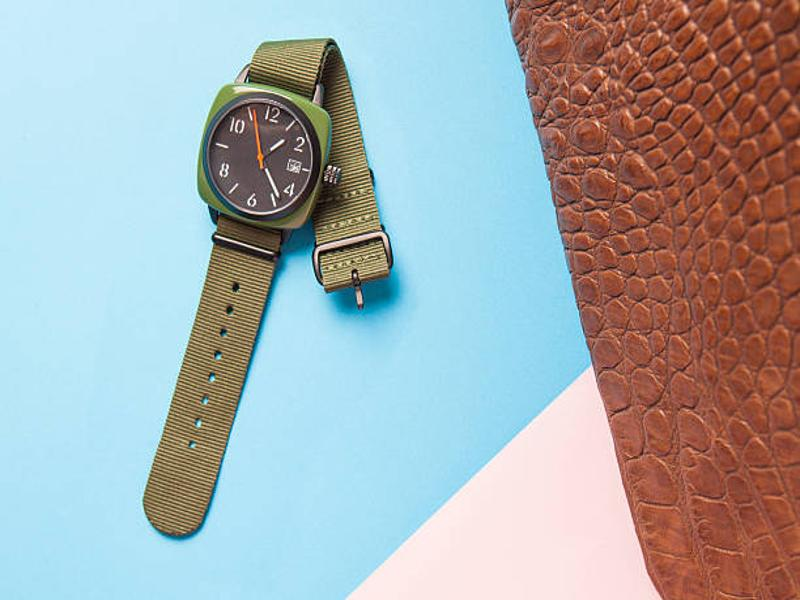watch: (137, 37, 394, 539)
